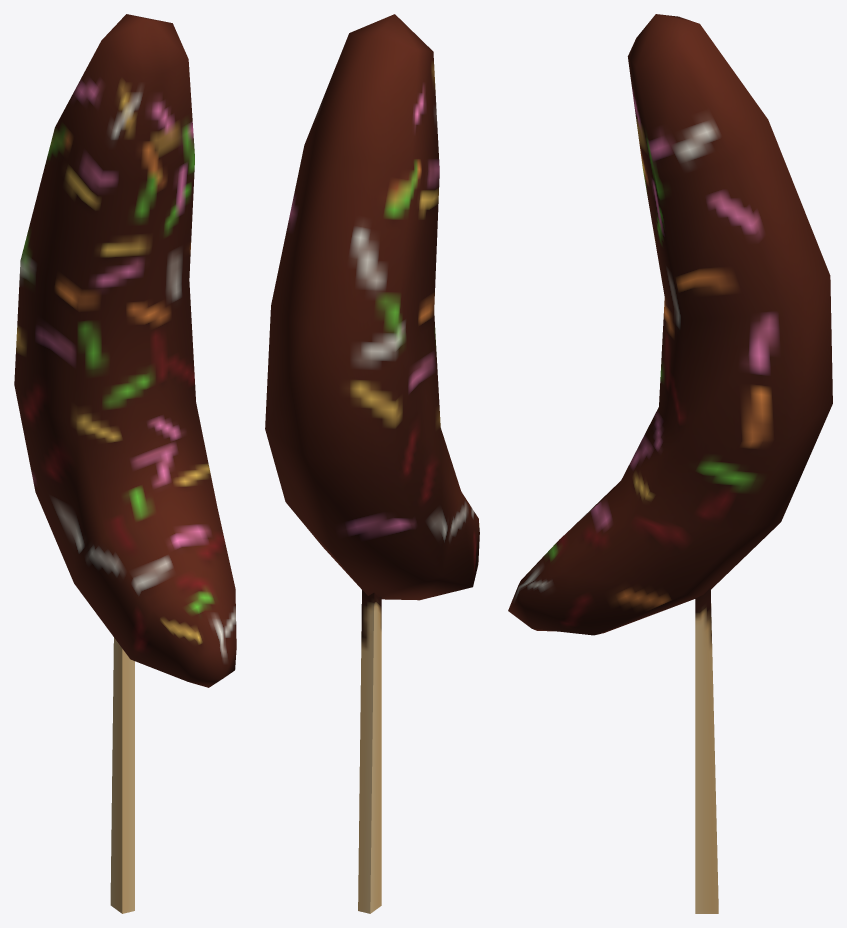
File: jsf_ChocolateBanana_a02_c01.fbx
3 views of the same model, side by side, from view 1: azimuth 30°, elevation 25°; view 2: azimuth 150°, elevation 25°; view 3: azimuth 270°, elevation 25° (orthographic). The views are drawn at different scales.
Parts seen in each view (by area): view 1: jsf_ChocolateBanana_a02_c01; view 2: jsf_ChocolateBanana_a02_c01; view 3: jsf_ChocolateBanana_a02_c01.
Boxes of the visible parts, x1,y1,x2,y2 form: jsf_ChocolateBanana_a02_c01: (14,14,236,913); jsf_ChocolateBanana_a02_c01: (265,14,479,913); jsf_ChocolateBanana_a02_c01: (508,14,832,913).
Bounding box in the file's own units: 3.73 × 23.83 × 7.83.
